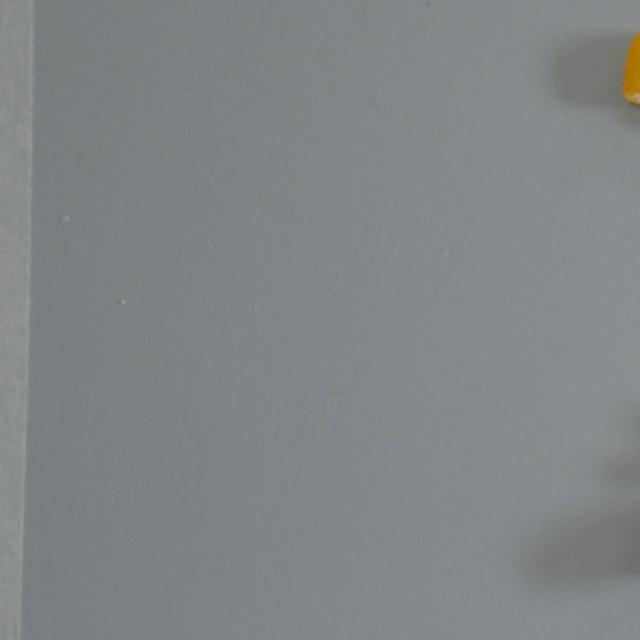dañado: (617, 22, 640, 136)
